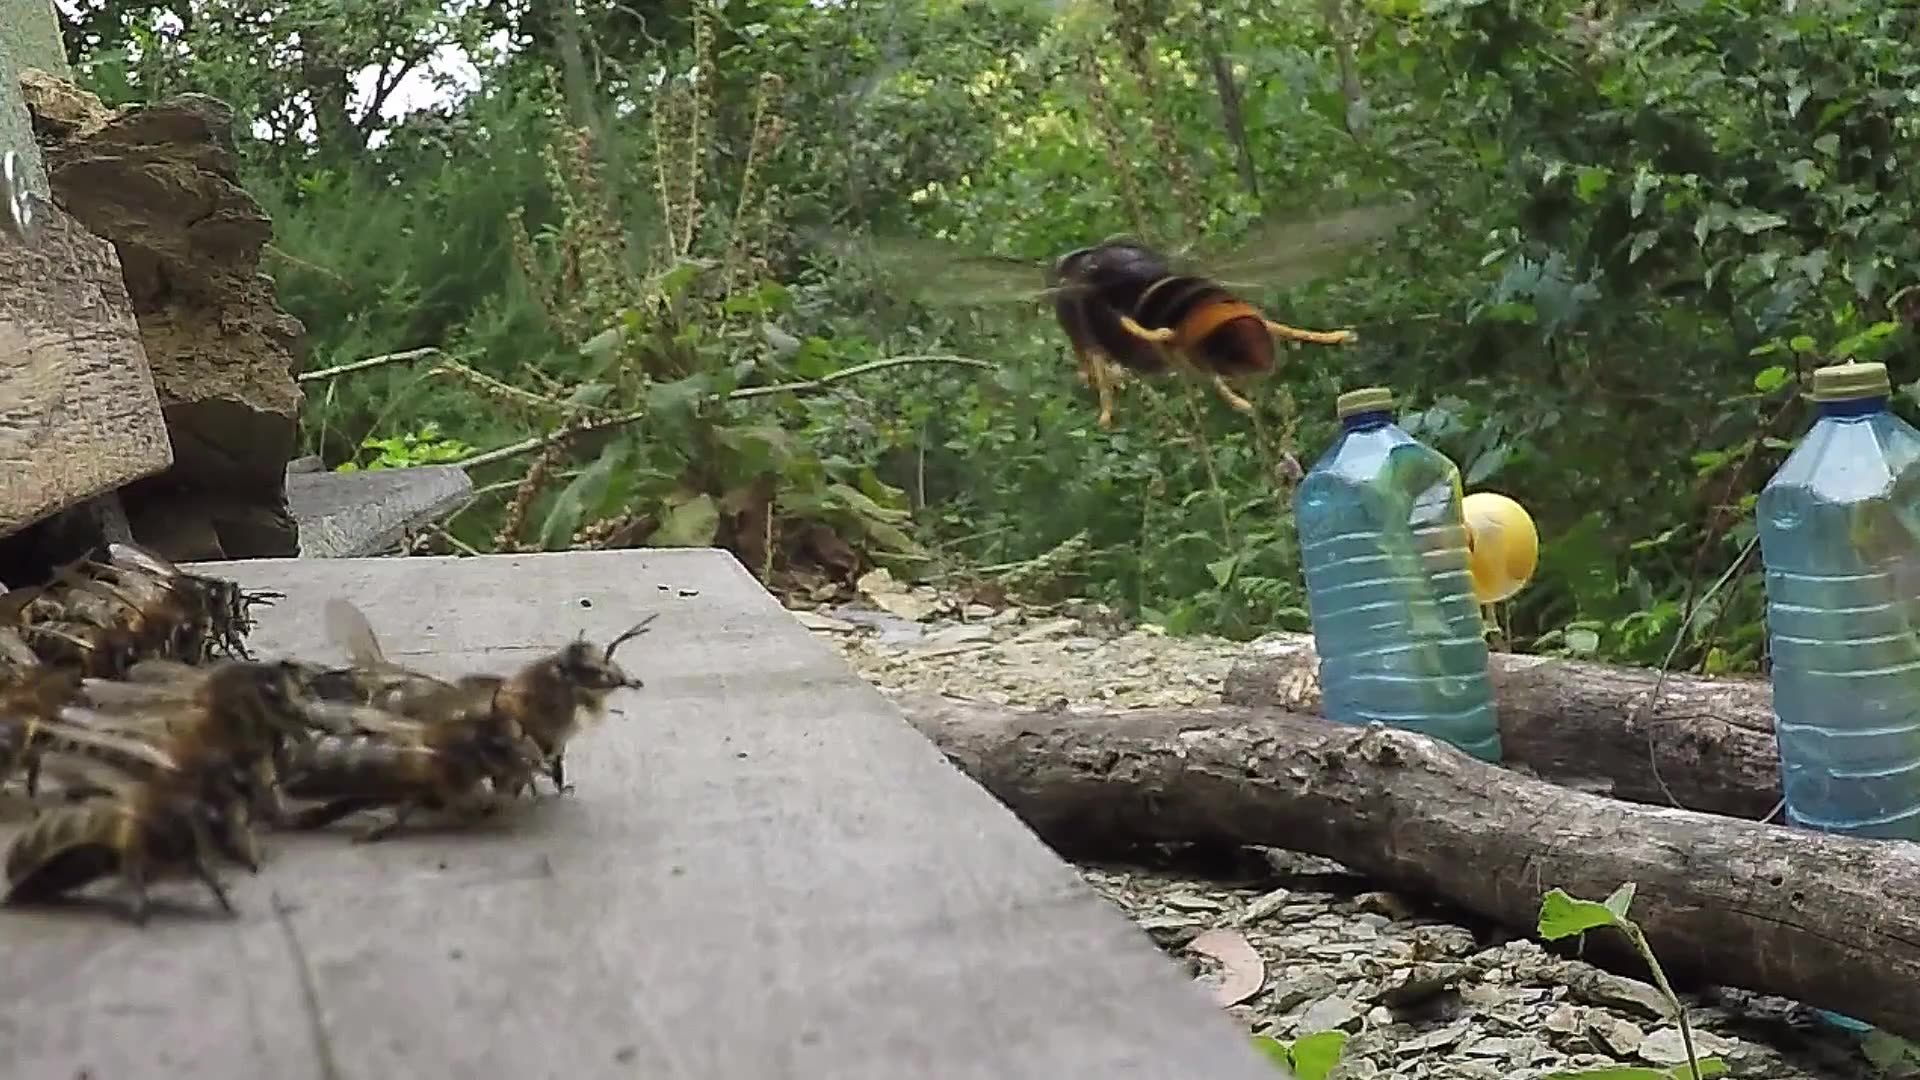bee: (272, 626, 653, 847), (7, 644, 295, 909), (21, 549, 280, 661)
hornet: (964, 214, 1356, 429)
